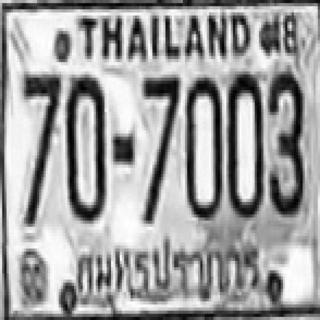N00: (66, 71, 106, 221), (184, 74, 221, 218), (226, 72, 261, 215)
N03: (268, 68, 303, 214)
N07: (22, 71, 59, 221), (142, 73, 178, 219)
P57: (68, 236, 263, 308)
